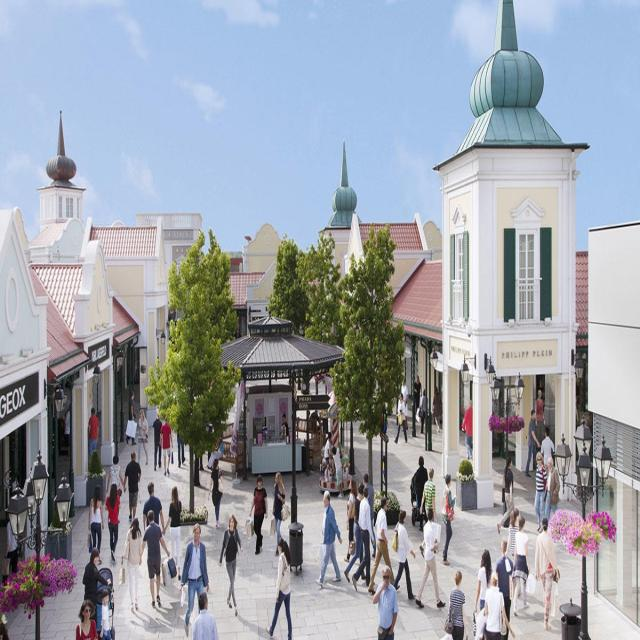body: (179, 522, 212, 639), (366, 494, 401, 596), (414, 506, 446, 610), (139, 508, 171, 609), (217, 511, 245, 621), (534, 515, 560, 633), (264, 537, 294, 639), (314, 489, 343, 589), (350, 486, 376, 594), (343, 482, 368, 585), (82, 546, 112, 629), (481, 568, 516, 639), (119, 516, 143, 616), (392, 508, 417, 601), (509, 513, 531, 618), (494, 538, 516, 640), (371, 564, 400, 639), (162, 484, 183, 583), (471, 547, 493, 640), (247, 474, 269, 557), (419, 466, 438, 560), (445, 569, 469, 639), (504, 506, 522, 599), (441, 471, 458, 569), (104, 452, 126, 526), (270, 469, 288, 559), (137, 608, 182, 639), (142, 480, 166, 538), (362, 472, 378, 558), (532, 450, 548, 536), (518, 590, 556, 626), (2, 503, 19, 583), (497, 456, 514, 536), (191, 590, 218, 640), (86, 485, 103, 564), (123, 449, 141, 522), (412, 455, 429, 532), (105, 482, 121, 562), (524, 407, 542, 478), (208, 457, 225, 531), (343, 478, 357, 564), (544, 457, 561, 523), (330, 432, 345, 500), (74, 599, 98, 639), (158, 415, 173, 478), (123, 389, 138, 448), (135, 408, 150, 467), (240, 612, 271, 639), (393, 392, 408, 446), (203, 435, 224, 473), (461, 399, 473, 463), (86, 406, 100, 460), (152, 410, 163, 473), (99, 588, 112, 640), (540, 426, 555, 466), (400, 378, 410, 432), (432, 385, 443, 434), (323, 431, 332, 482), (306, 407, 322, 434), (420, 388, 429, 434), (176, 430, 186, 469), (62, 407, 70, 455), (413, 374, 422, 413), (536, 390, 544, 422), (281, 412, 289, 438), (0, 620, 9, 639)
